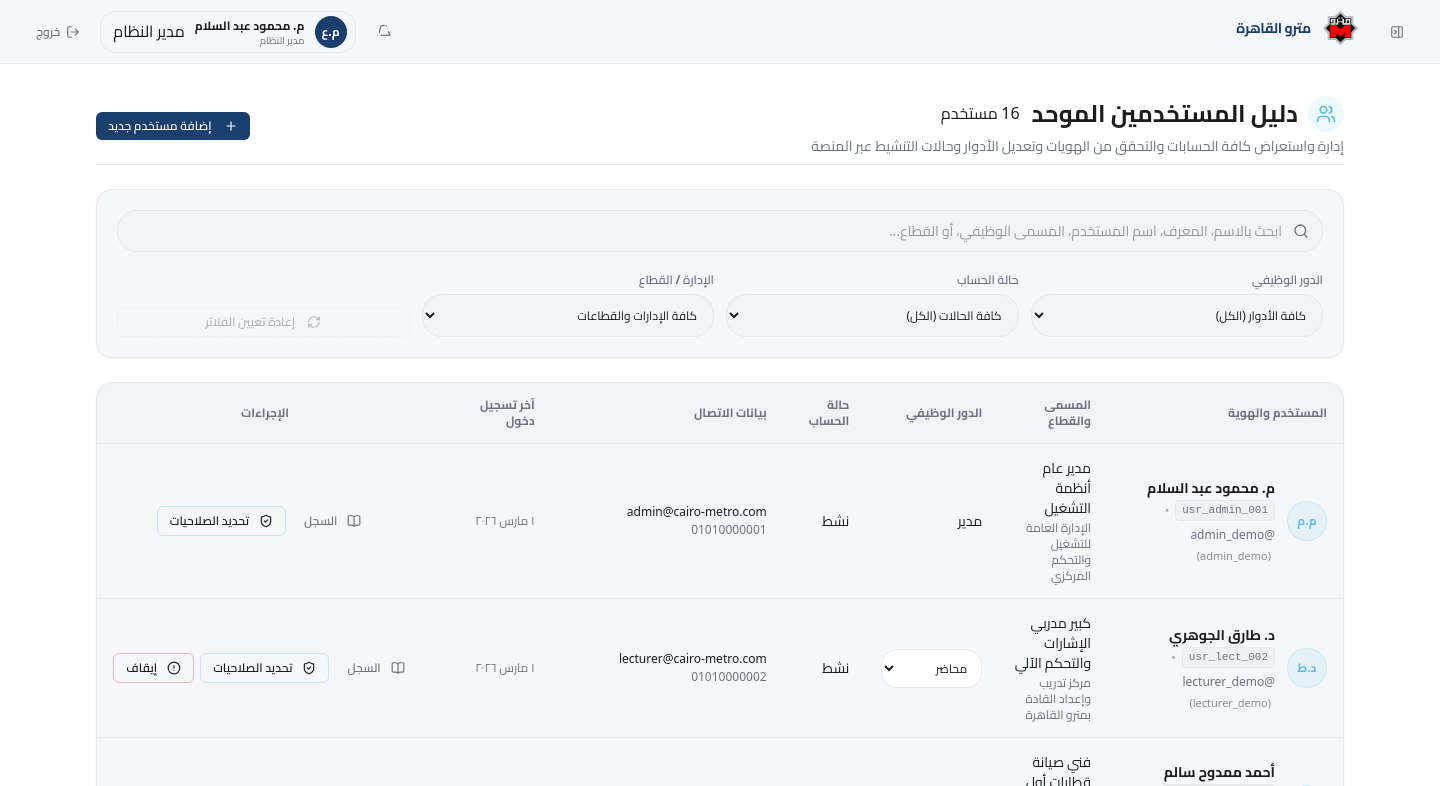
Test: Increment 11 — Phase 1: Central User Directory Foundation & Seed Data Unification › 5. Role, Status, and Department Filters › combines role, department, and search filters accurately
Select "متدرب" in the dropdown with test id "role-filter-select" at [1177, 316], box [1030,294,1323,337]
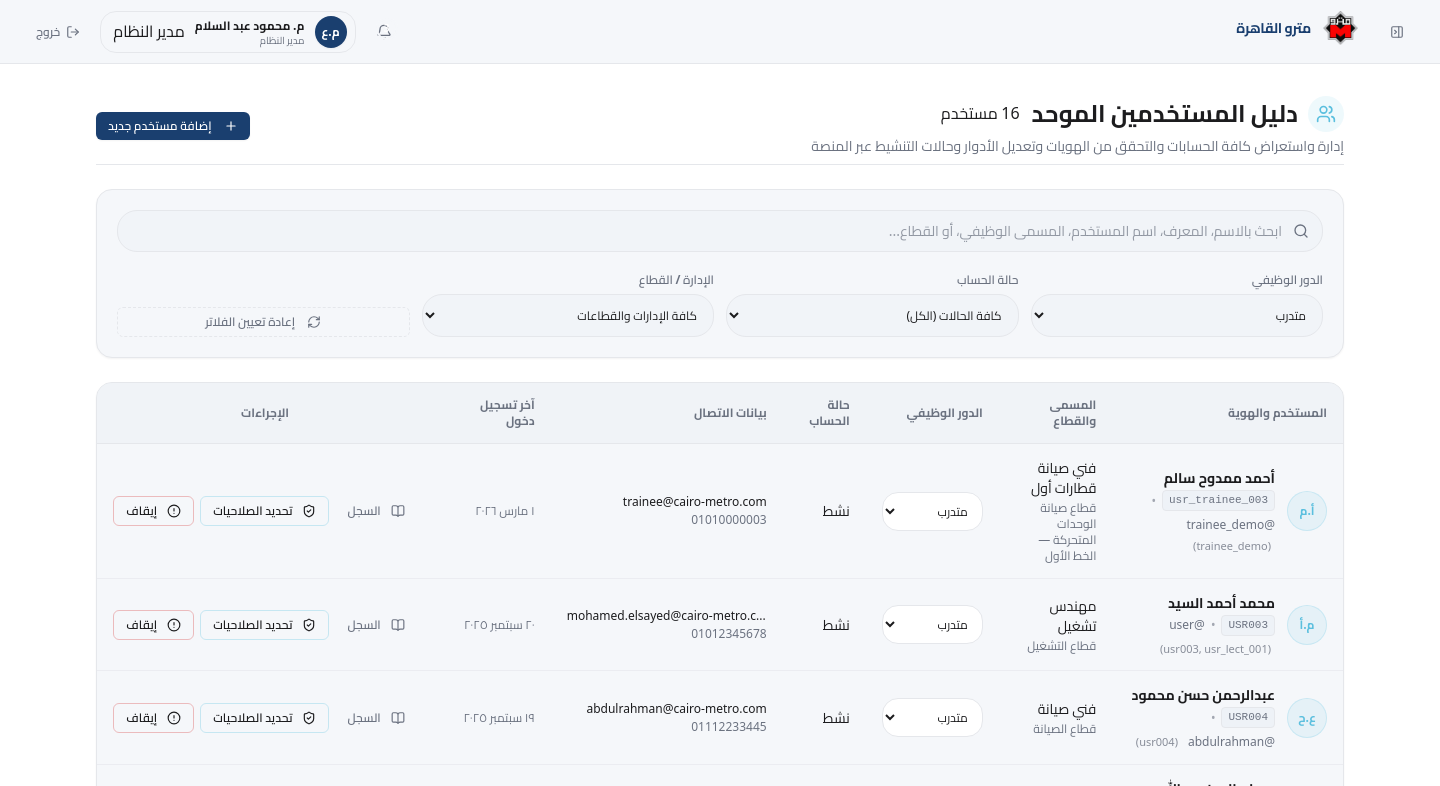
Select "قطاع التشغيل" in the dropdown with test id "dept-filter-select" at [568, 316], box [422,294,714,337]
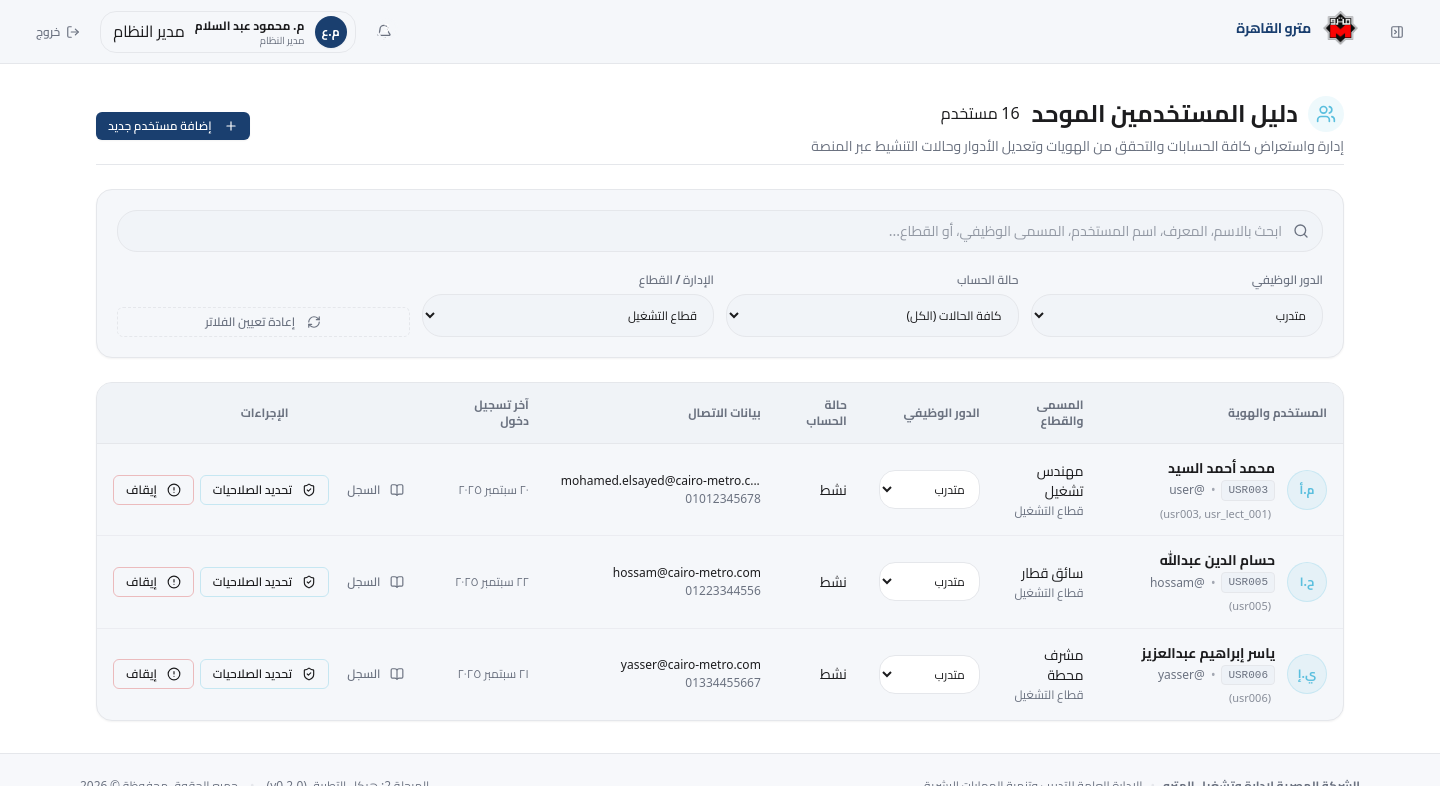
Expected: the row with test id "user-row-USR003" is shown, [97,444,1343,536]
Expected: the row with test id "user-row-USR004" is gone
Note: Refine further with search query
Replace the text in the field with test id "user-search-input" with "حسام" at [720, 231], box [117,210,1323,252]
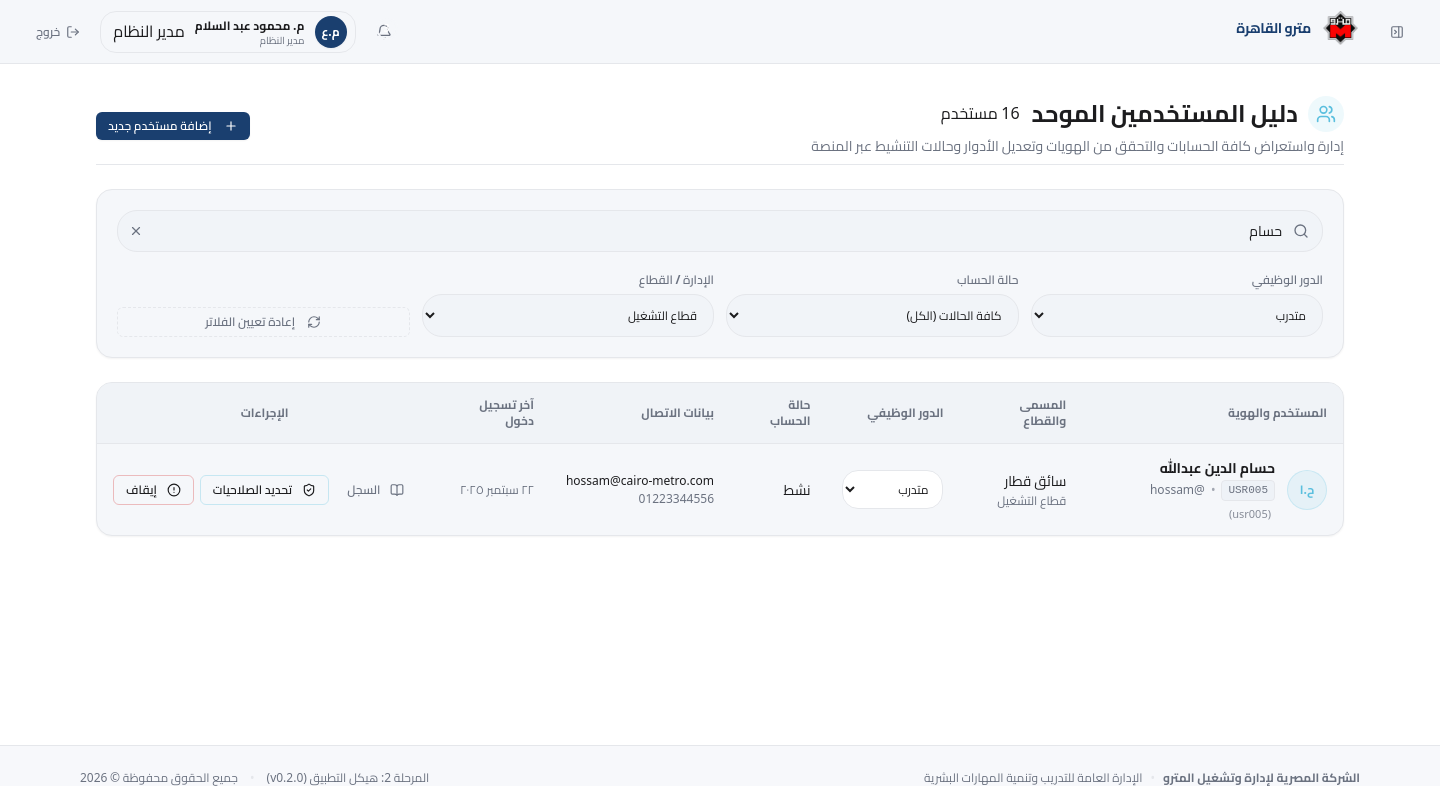
Expected: the row with test id "user-row-USR005" is shown, [97,444,1343,535]
Expected: the row with test id "user-row-USR003" is gone
Expected: the row with test id "user-row-USR006" is gone
